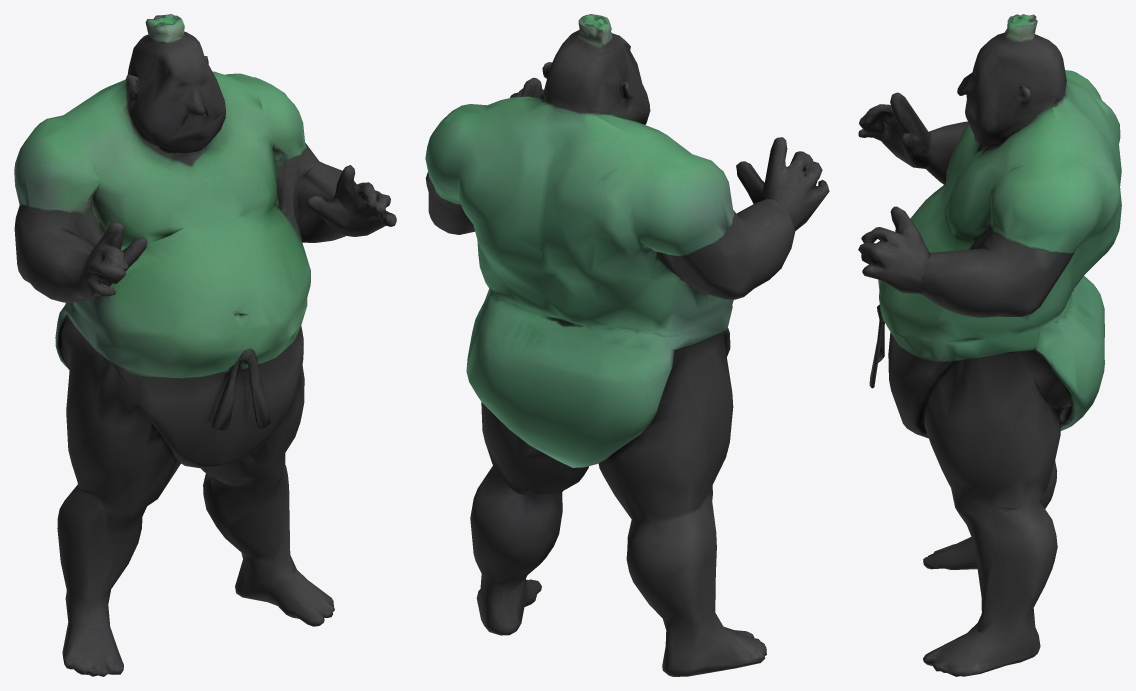
File: sumo.glb
3 renders of one model, left to right at view 1: azimuth 30°, elevation 25°; view 2: azimuth 150°, elevation 25°; view 3: azimuth 270°, elevation 25°, orthographic. The views are drawn at different scales.
Parts seen in each view (by area): view 1: Mesh_0; view 2: Mesh_0; view 3: Mesh_0.
Part boxes in pixels (x1=…): Mesh_0: x1=14, y1=14, x2=396, y2=676; Mesh_0: x1=425, y1=14, x2=829, y2=676; Mesh_0: x1=858, y1=14, x2=1121, y2=676.
Bounding box in the file's own units: 1.11 × 2 × 0.805.
Materials: 1 (1 with a texture image).
